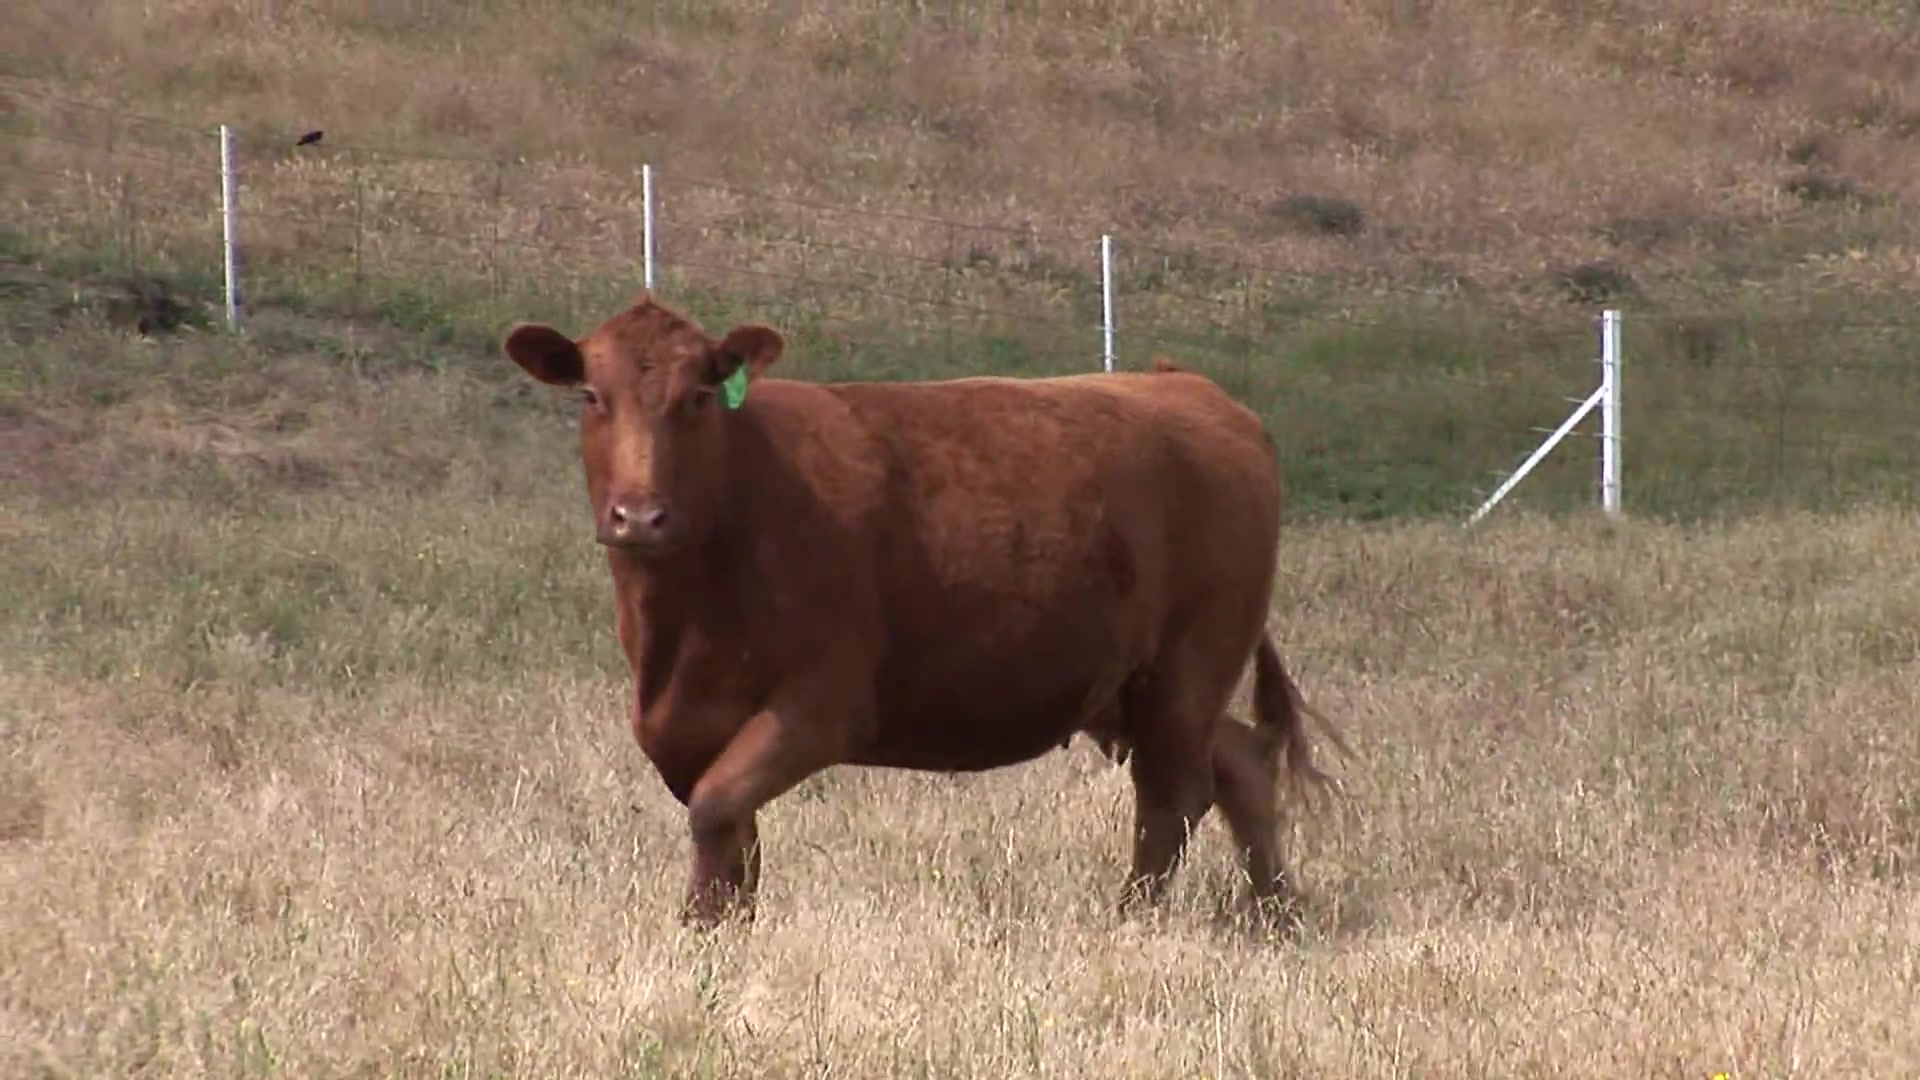cow: (505, 281, 1323, 938)
